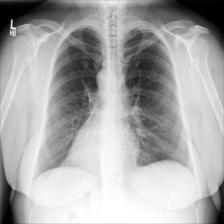normal: (30, 22, 196, 180)
